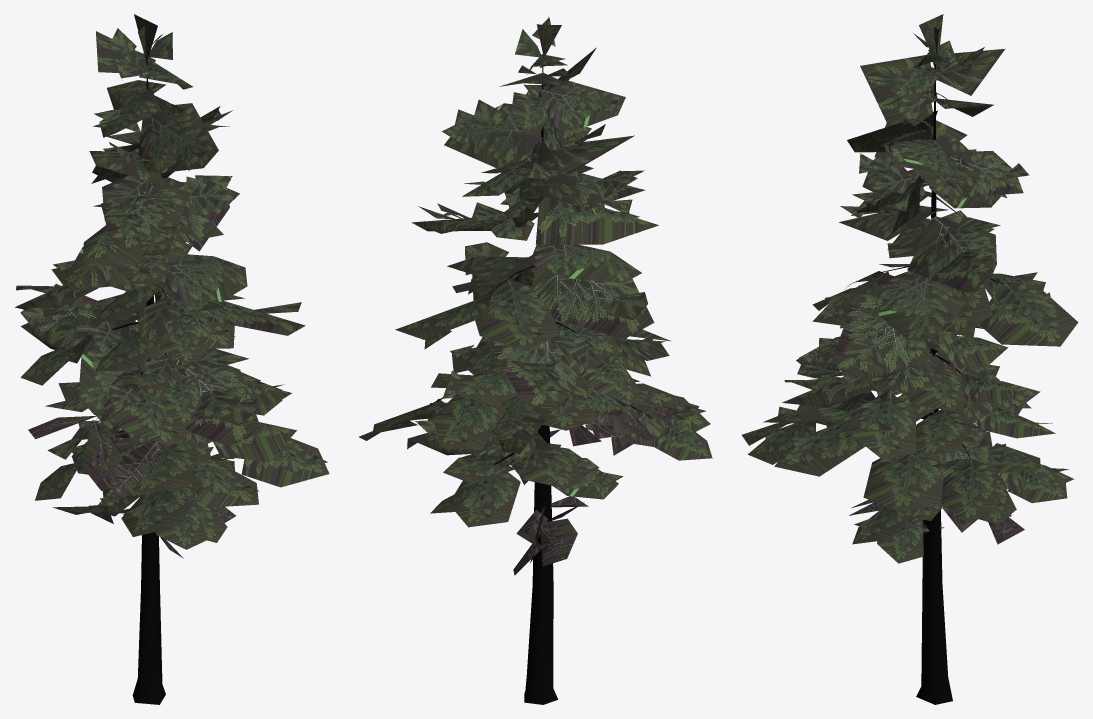
Rendered from Fir_07.FBX.
3 views of the same model, side by side, from view 1: azimuth 30°, elevation 25°; view 2: azimuth 150°, elevation 25°; view 3: azimuth 270°, elevation 25° (orthographic).
Parts seen in each view (by area): view 1: Fir_07; view 2: Fir_07; view 3: Fir_07.
Boxes of the visible parts, x1,y1,x2,y2 form: Fir_07: (15,14,329,704); Fir_07: (359,17,712,704); Fir_07: (742,14,1078,704).
Size of the model in its own units: 944 by 2091 by 942.
